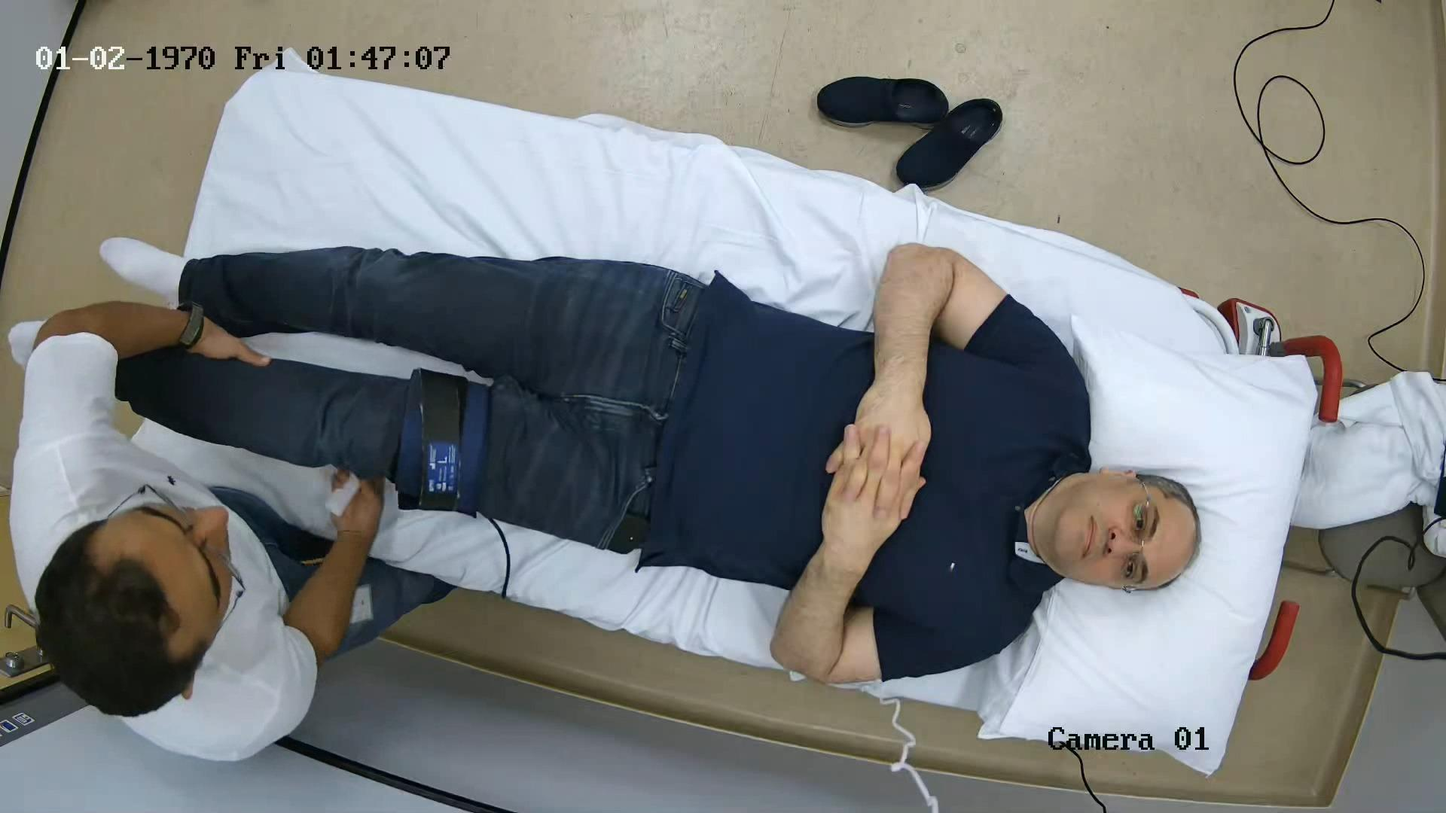bed: (134, 61, 1341, 772)
patient: (116, 245, 1198, 684)
prepstick: (325, 474, 361, 517)
tourniquet: (395, 370, 490, 514)
